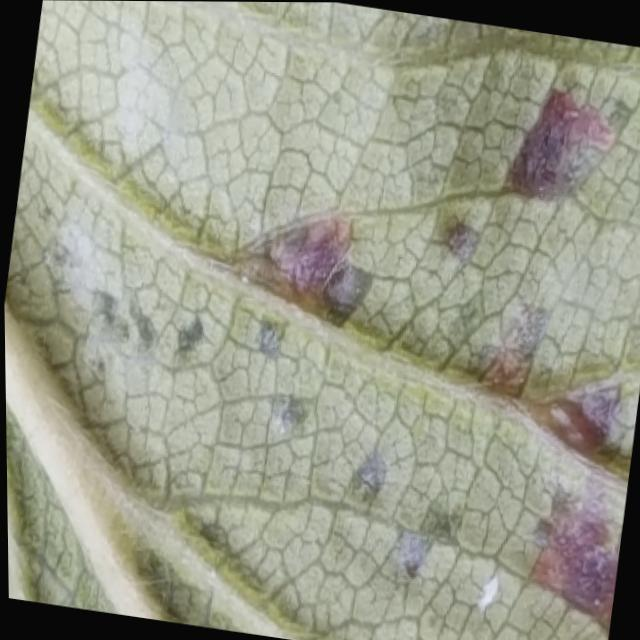Angular Leafspot: (18, 73, 640, 640)
